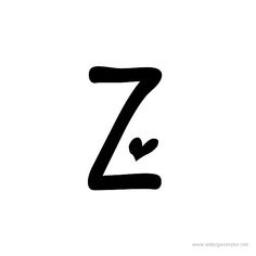z: (70, 53, 178, 207)
